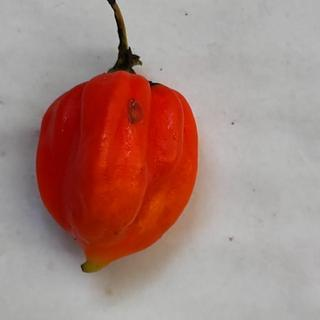Defect: (121, 94, 150, 131)
